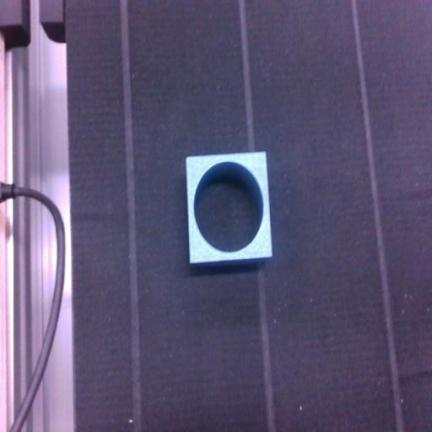square: (194, 171, 261, 252)
